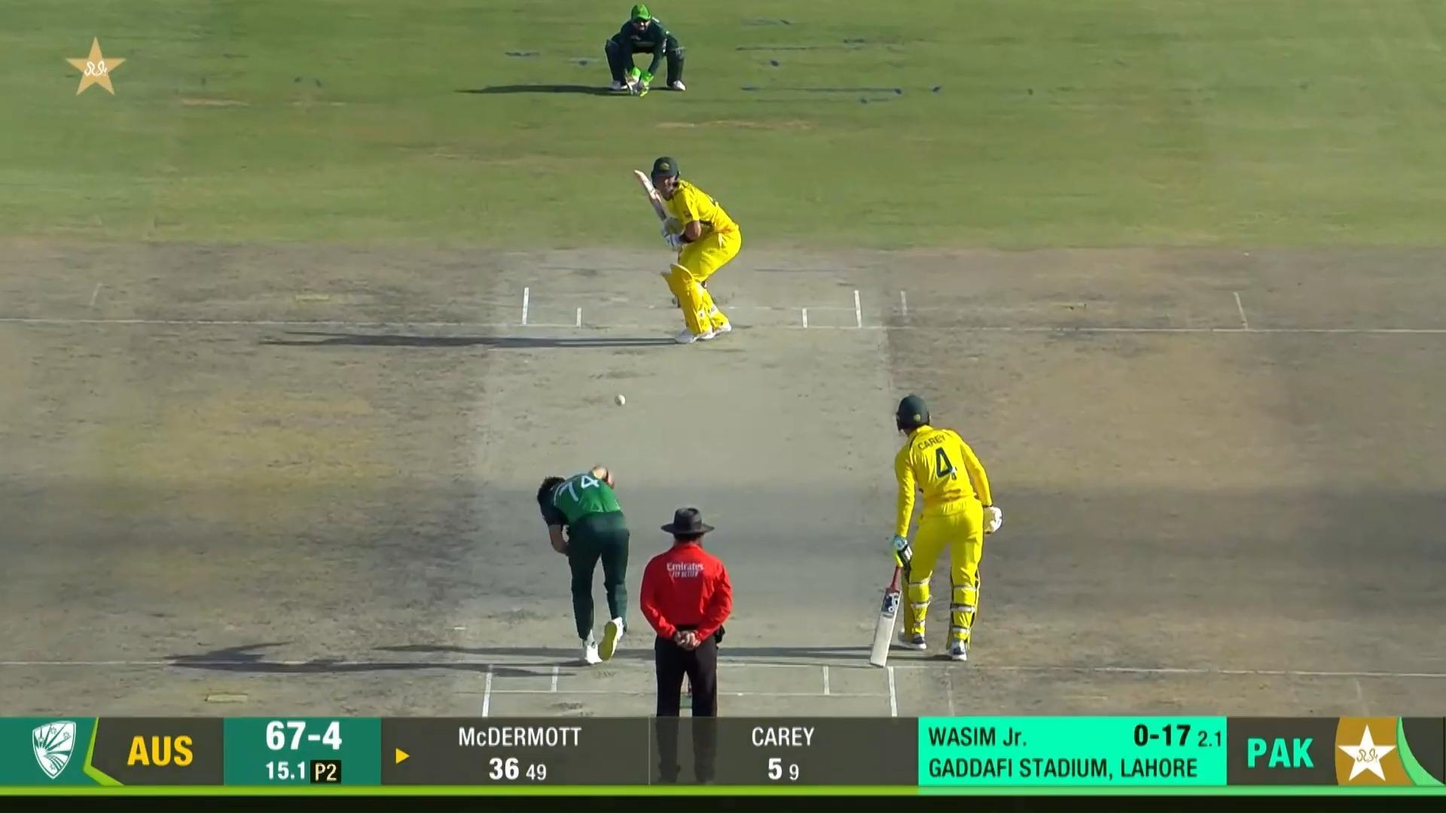BM 1: (633, 157, 743, 344)
BO: (536, 463, 636, 666)
